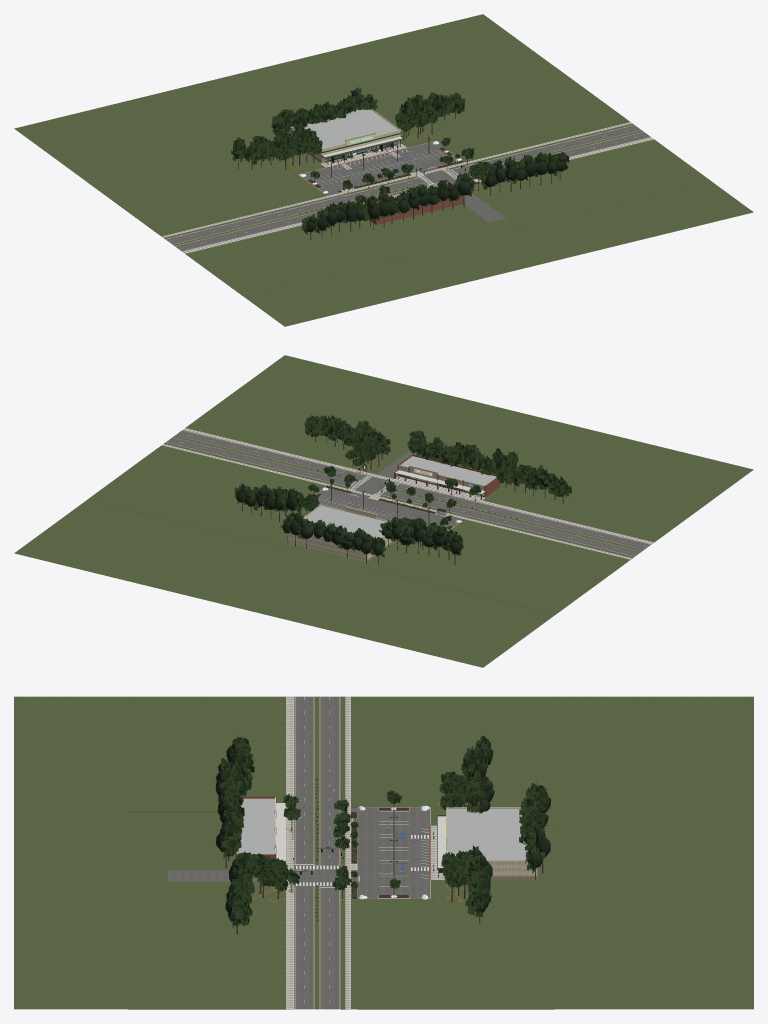
The model's file is us_market_street.glb.
The picture shows the model from 3 angles, top to bottom: view 1: azimuth 30°, elevation 25°; view 2: azimuth 150°, elevation 25°; view 3: azimuth 270°, elevation 25°; orthographic projection. The views are drawn at different scales.
Parts seen in each view (by area): view 1: usms_grass, usms_asphalt, usms_tree_core, usms_vc, usms_tree_cards_c, usms_concrete, usms_tree_cards_b, usms_tree_cards_a, usms_vc_metal, usms_brick, usms_stucco; view 2: usms_grass, usms_asphalt, usms_tree_core, usms_concrete, usms_vc, usms_tree_cards_b, usms_tree_cards_c, usms_tree_cards_a, usms_stucco, usms_brick; view 3: usms_grass, usms_asphalt, usms_vc, usms_concrete, usms_tree_cards_c, usms_tree_cards_b, usms_tree_core, usms_tree_cards_a, usms_stucco, usms_vc_metal.
Boxes of the visible parts, x1,y1,x2,y2 form: usms_grass: [14, 14, 753, 326]; usms_asphalt: [166, 125, 650, 251]; usms_tree_core: [233, 90, 567, 232]; usms_vc: [166, 109, 650, 251]; usms_tree_cards_c: [243, 87, 548, 233]; usms_concrete: [161, 122, 653, 253]; usms_tree_cards_b: [231, 92, 536, 234]; usms_tree_cards_a: [266, 95, 569, 226]; usms_vc_metal: [321, 133, 479, 196]; usms_brick: [363, 181, 479, 224]; usms_stucco: [288, 108, 400, 160]; usms_grass: [14, 355, 753, 667]; usms_asphalt: [166, 430, 650, 556]; usms_tree_core: [236, 416, 568, 555]; usms_concrete: [162, 428, 653, 559]; usms_vc: [168, 430, 649, 564]; usms_tree_cards_b: [234, 420, 571, 557]; usms_tree_cards_c: [263, 415, 560, 553]; usms_tree_cards_a: [243, 414, 550, 550]; usms_stucco: [288, 505, 392, 561]; usms_brick: [363, 454, 499, 499]; usms_grass: [14, 696, 753, 1009]; usms_asphalt: [167, 696, 429, 1009]; usms_vc: [225, 697, 543, 1008]; usms_concrete: [285, 696, 445, 1009]; usms_tree_cards_c: [220, 737, 545, 903]; usms_tree_cards_b: [221, 735, 544, 917]; usms_tree_core: [215, 738, 551, 923]; usms_tree_cards_a: [223, 739, 540, 926]; usms_stucco: [446, 807, 537, 876]; usms_vc_metal: [289, 789, 446, 892].
Size of the model in its own units: 260 by 78.5 by 260.
49 materials, 37 textured.
